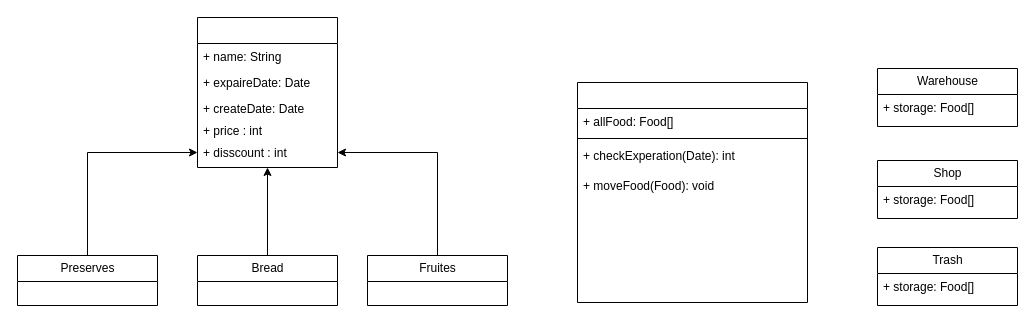
Some shapes in this 1035 by 323 pixel diagram are drawn without their labels. Here are the shapes that lost their labels. From the top down, the box of each, then its label:
(196, 16, 338, 168): Food
(576, 82, 808, 302): ControllQuality
